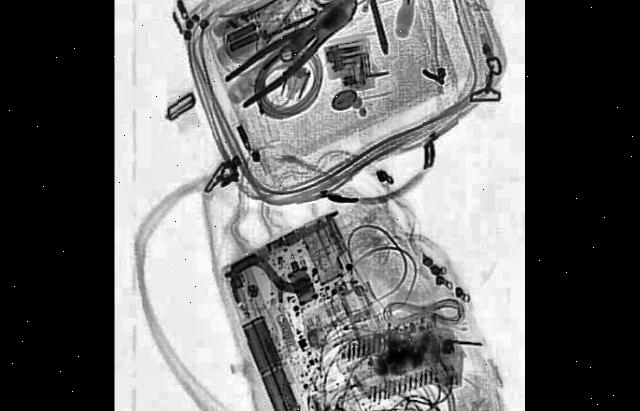Pliers: (225, 0, 366, 124)
